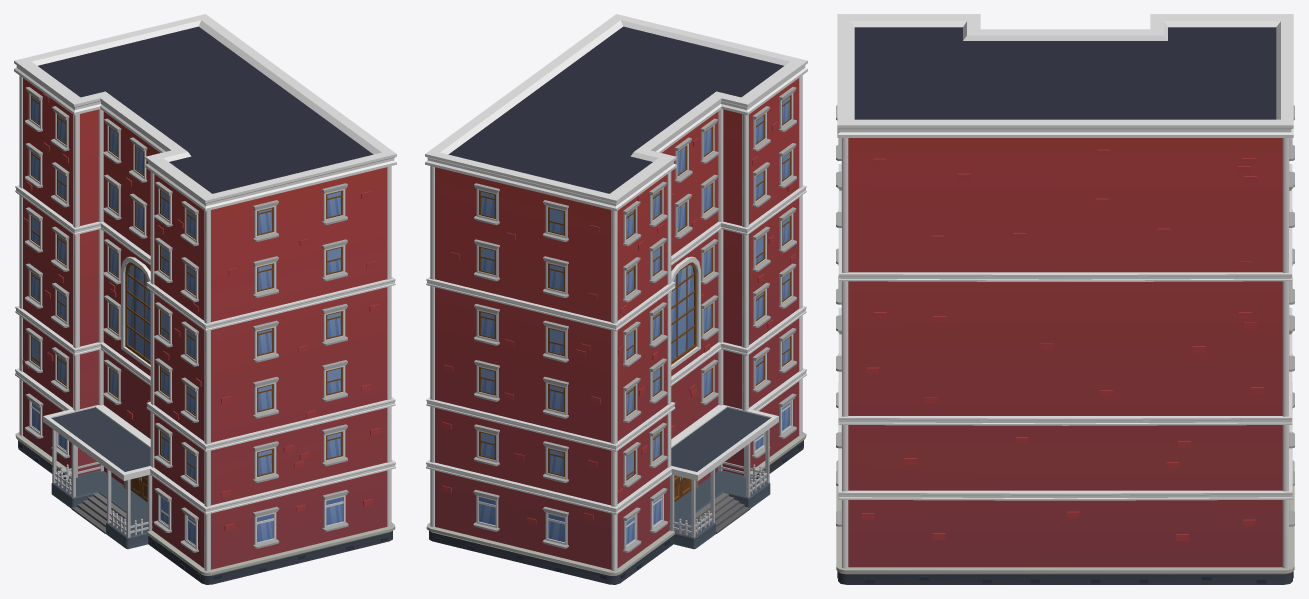
File: Building_5_4_J.fbx
3 renders of one model, left to right at view 1: azimuth 30°, elevation 25°; view 2: azimuth 150°, elevation 25°; view 3: azimuth 270°, elevation 25°, orthographic. The views are drawn at different scales.
Parts seen in each view (by area): view 1: Building_5_4_J; view 2: Building_5_4_J; view 3: Building_5_4_J.
Part boxes in pixels (box(x1,y1,x2,y2)): Building_5_4_J: box(14, 14, 396, 584); Building_5_4_J: box(425, 14, 807, 584); Building_5_4_J: box(836, 14, 1294, 584).
Size of the model in its own units: 1251 by 2109 by 1908.
